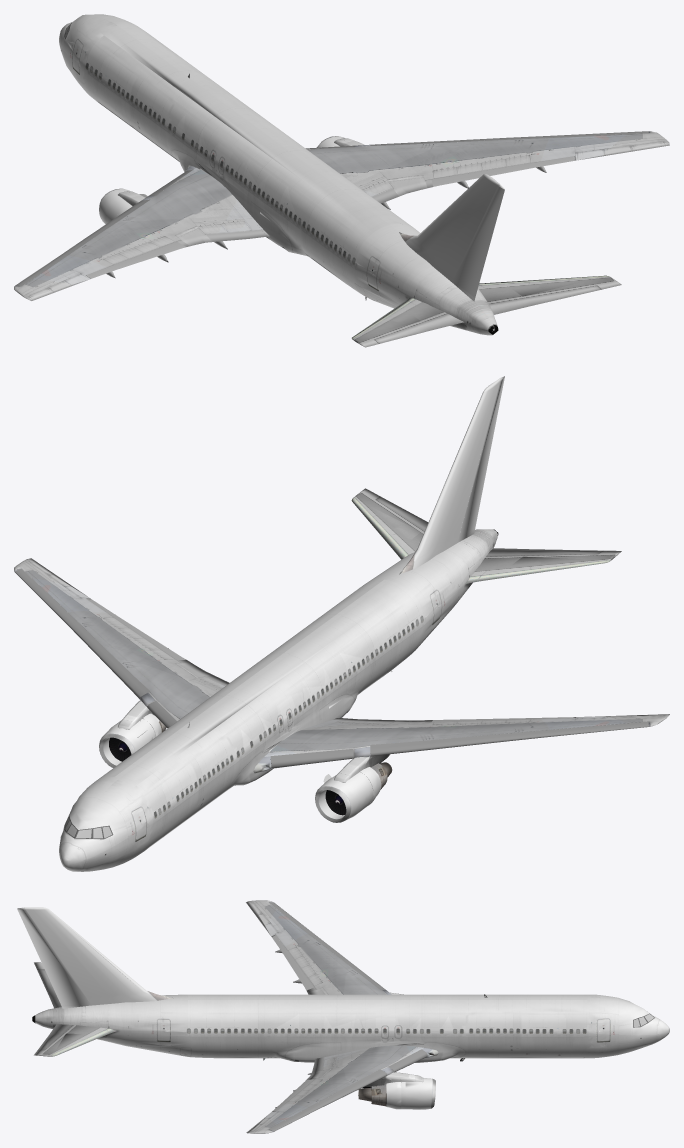
The picture shows the model from 3 angles, top to bottom: view 1: azimuth 30°, elevation 25°; view 2: azimuth 150°, elevation 25°; view 3: azimuth 270°, elevation 25°; orthographic projection. The views are drawn at different scales.
Visible parts, largest first — view 1: Fuselage, RWing_002, LWing_001, VStab_001, VRudder, RHStab, LHStab_001, RHelev, Glass_Fuselage, flap_ext_R, LHStab, flapl (+6 smaller); view 2: Fuselage, RWing_002, LWing_001, VStab_001, LFflapwing2, LHStab_001, RHStab, RFflapwing2, VRudder, LCapaturbofan_004, Glass_Fuselage, LFflapwing1 (+2 smaller); view 3: Fuselage, VStab_001, RWing_002, LWing_001, VRudder, Glass_Fuselage, RHStab, RFflapwing2, RCapaturbofan_003, LFflapwing2, RCapaturbofan_001, flap_ext_L (+2 smaller).
Part boxes in pixels (<box>): Fuselage: <box>59,14,498,335</box>; RWing_002: <box>307,131,669,189</box>; LWing_001: <box>14,165,269,300</box>; VStab_001: <box>399,174,499,301</box>; VRudder: <box>452,186,504,297</box>; RHStab: <box>478,275,621,302</box>; LHStab_001: <box>351,297,463,347</box>; RHelev: <box>488,285,601,314</box>; Glass_Fuselage: <box>87,67,357,269</box>; flap_ext_R: <box>431,156,574,186</box>; LHStab: <box>375,313,462,343</box>; flapl: <box>193,223,266,242</box>; Fuselage: <box>59,529,498,871</box>; RWing_002: <box>14,558,221,721</box>; LWing_001: <box>253,714,669,773</box>; VStab_001: <box>399,378,500,574</box>; LFflapwing2: <box>370,721,648,756</box>; LHStab_001: <box>466,548,621,583</box>; RHStab: <box>351,488,423,559</box>; RFflapwing2: <box>15,568,149,698</box>; VRudder: <box>458,377,504,540</box>; LCapaturbofan_004: <box>315,774,370,822</box>; Glass_Fuselage: <box>157,617,425,819</box>; LFflapwing1: <box>270,749,353,768</box>; Fuselage: <box>32,994,669,1062</box>; VStab_001: <box>25,907,173,1008</box>; RWing_002: <box>246,1045,438,1133</box>; LWing_001: <box>246,900,391,994</box>; VRudder: <box>17,909,90,1005</box>; Glass_Fuselage: <box>185,1031,584,1036</box>; RHStab: <box>34,1025,117,1056</box>; RFflapwing2: <box>269,1069,387,1131</box>; RCapaturbofan_003: <box>405,1077,435,1109</box>; LFflapwing2: <box>269,902,385,989</box>; RCapaturbofan_001: <box>386,1082,405,1109</box>; flap_ext_L: <box>272,935,314,990</box>.
Bounding box in the file's own units: 46.31 × 15.12 × 55.2.
Materials: 41 (35 with a texture image).
